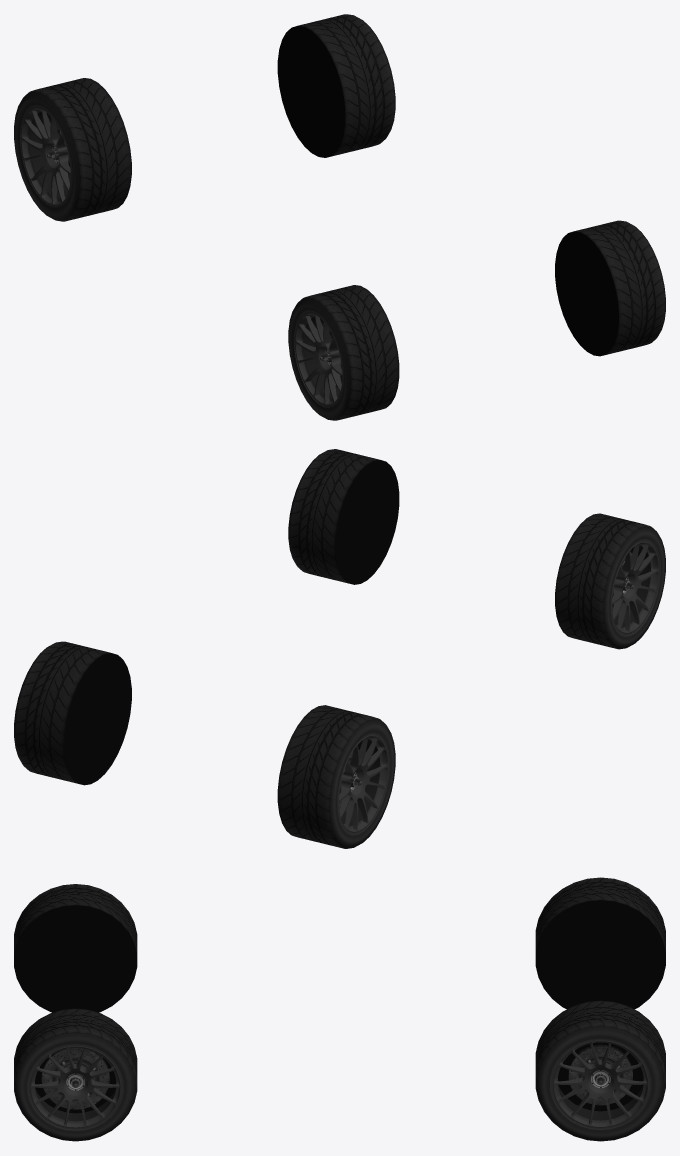
File: 02 BMW M Power.fbx
The picture shows the model from 3 angles, top to bottom: view 1: azimuth 30°, elevation 25°; view 2: azimuth 150°, elevation 25°; view 3: azimuth 270°, elevation 25°; orthographic projection. The views are drawn at different scales.
Visible parts, largest first — view 1: Whl_HD_RL, Whl_HD_RR, Whl_HD_FR, Whl_HD_FL; view 2: Whl_HD_RR, Whl_HD_RL, Whl_HD_FL, Whl_HD_FR; view 3: Whl_HD_RL, Whl_HD_RR, Whl_HD_FL, Whl_HD_FR.
Boxes of the visible parts, x1,y1,x2,y2 form: Whl_HD_RL: (277,14,395,157); Whl_HD_RR: (14,78,131,221); Whl_HD_FR: (288,285,399,420); Whl_HD_FL: (555,220,665,356); Whl_HD_RR: (277,705,395,848); Whl_HD_RL: (14,641,131,785); Whl_HD_FL: (288,449,399,584); Whl_HD_FR: (555,513,665,649); Whl_HD_RL: (535,1000,665,1141); Whl_HD_RR: (535,877,665,1009); Whl_HD_FL: (14,1008,137,1141); Whl_HD_FR: (14,884,137,1012).
Bounding box in the file's own units: 177 × 65.04 × 325.
2 materials, 2 textured.
